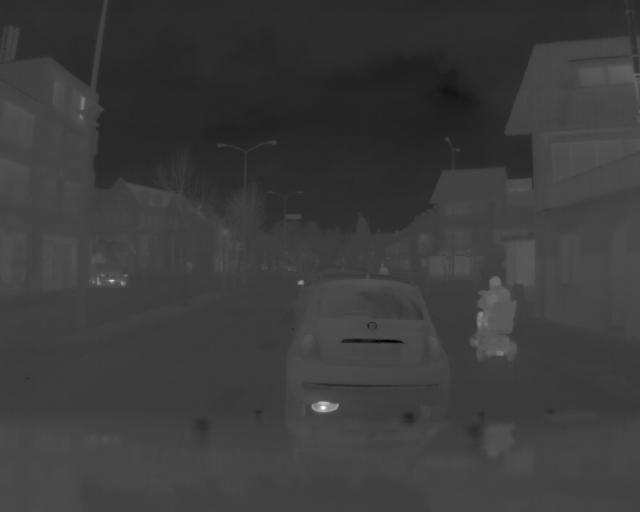car: (287, 281, 446, 426)
person: (469, 272, 521, 364)
